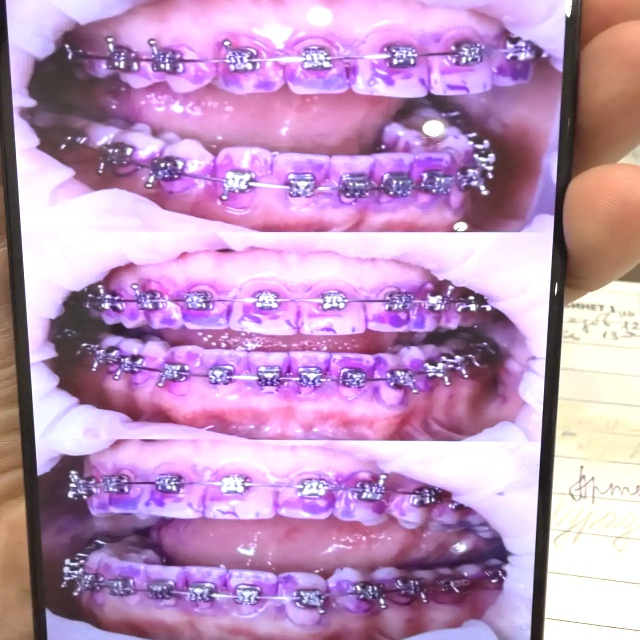clean_tooth: (550, 282, 639, 545)
plaque: (53, 275, 530, 639), (14, 0, 554, 231), (36, 289, 68, 382), (44, 612, 143, 639)
